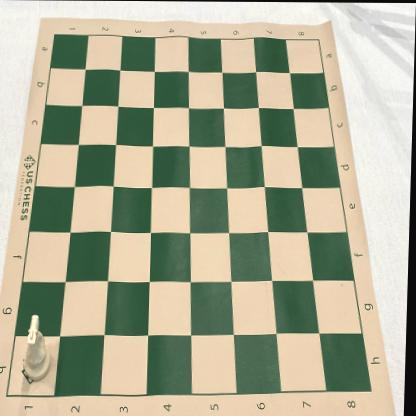white-knight: (26, 314, 56, 382)
